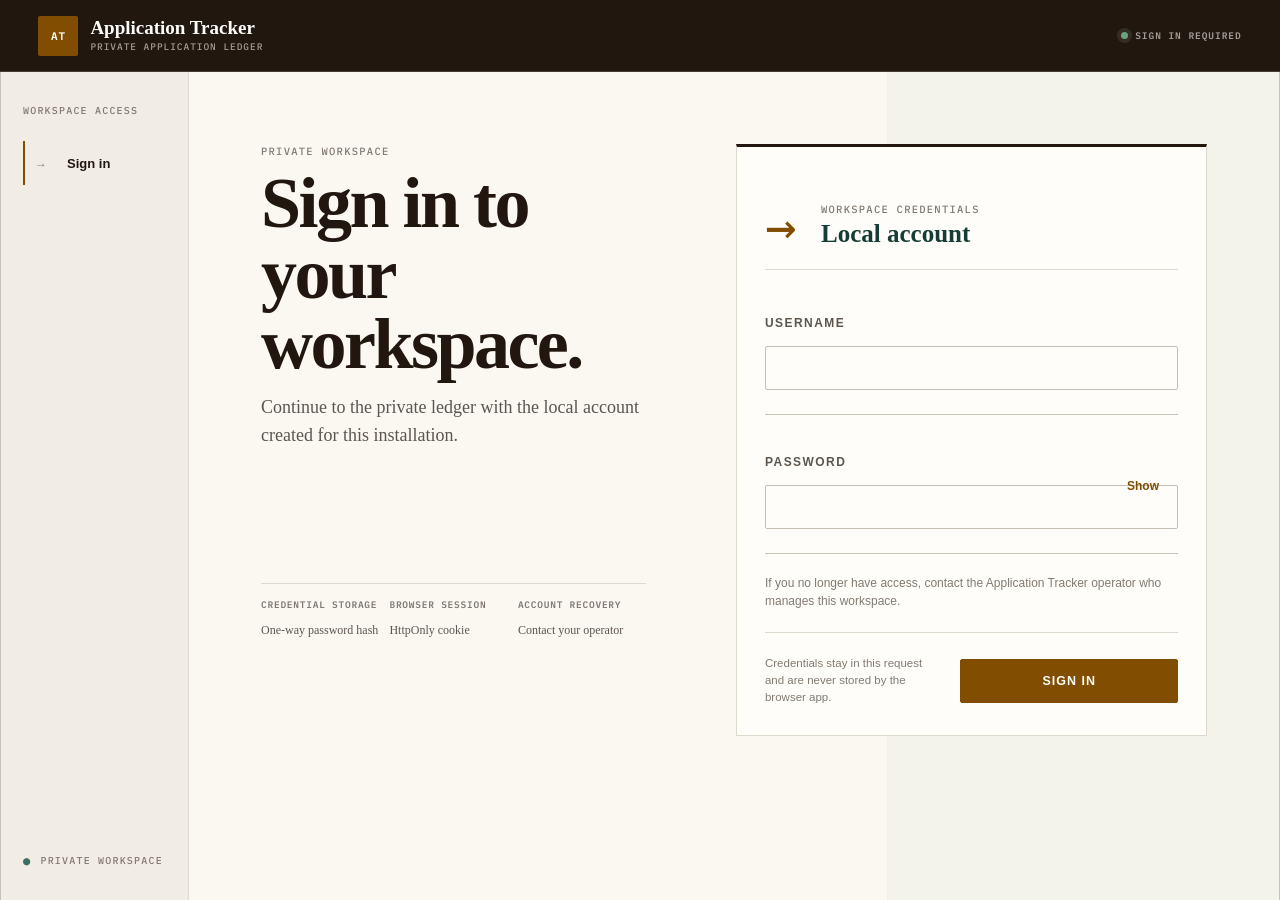
Test: application shell › shows the bounded retry delay and retains the password after throttling
The image size is (1280, 900).
Expected: the heading "Sign in to your workspace." is shown, x1=261 y1=163 x2=582 y2=384
Type "alex" into the field labelled "Username" at (972, 368), box x1=765 y1=346 x2=1178 y2=390
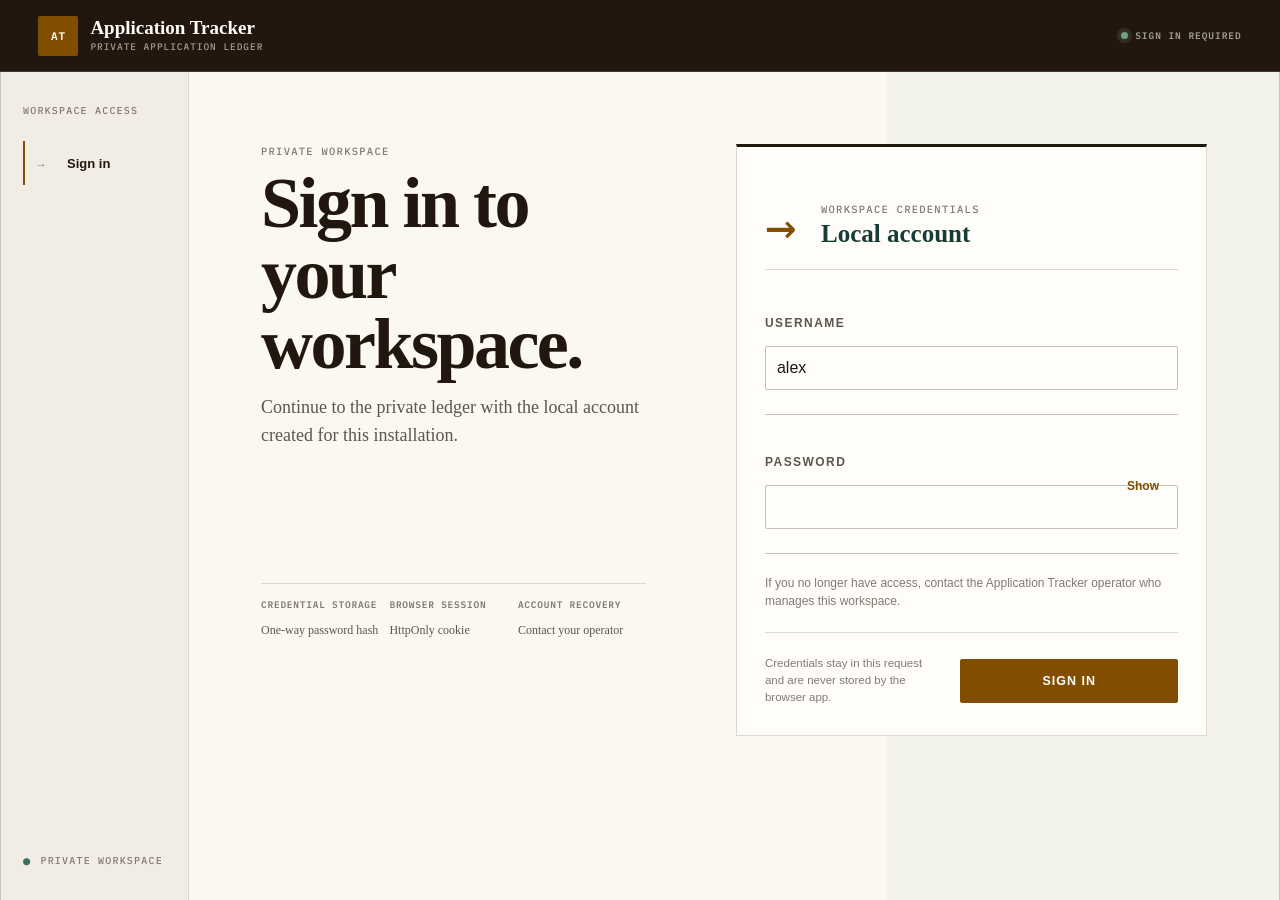
Type "correct horse battery staple" into the password field labelled "Password" at (972, 507), box x1=765 y1=485 x2=1178 y2=529
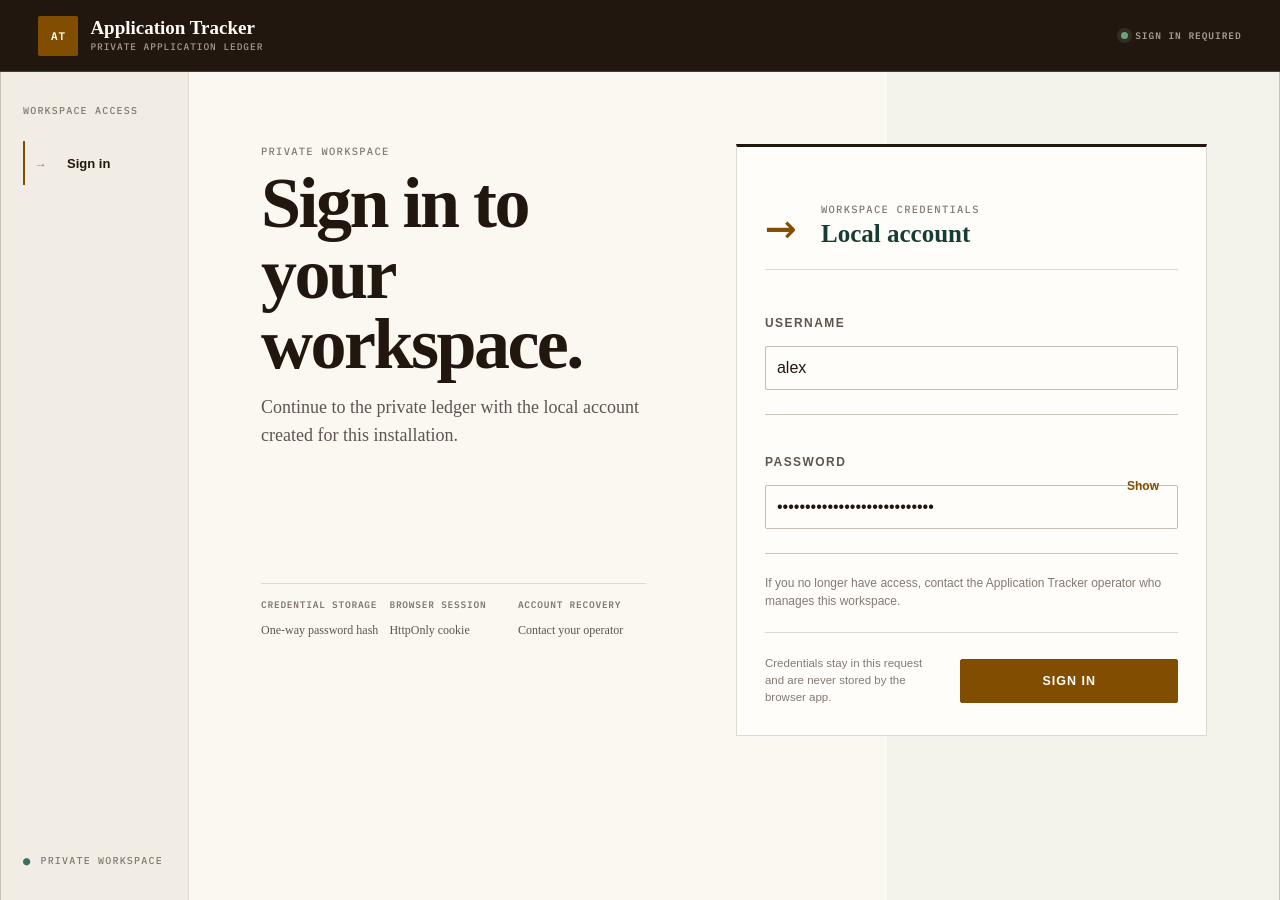
Click the button "Sign in" at (1069, 681), box x1=960 y1=659 x2=1178 y2=703
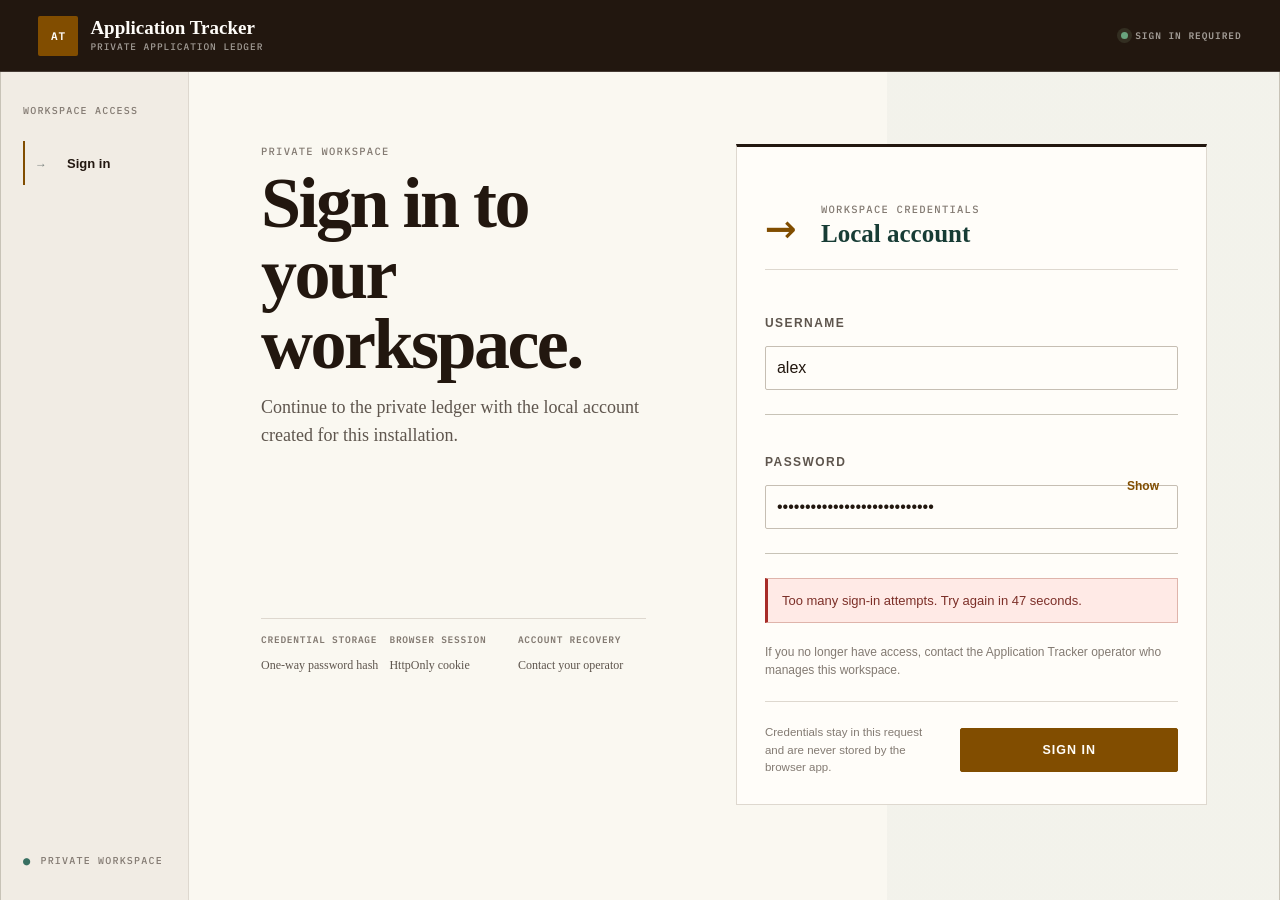
Result: the message reads "Too many sign-in attempts. Try again in 47 seconds." at x1=782 y1=593 x2=1082 y2=608
